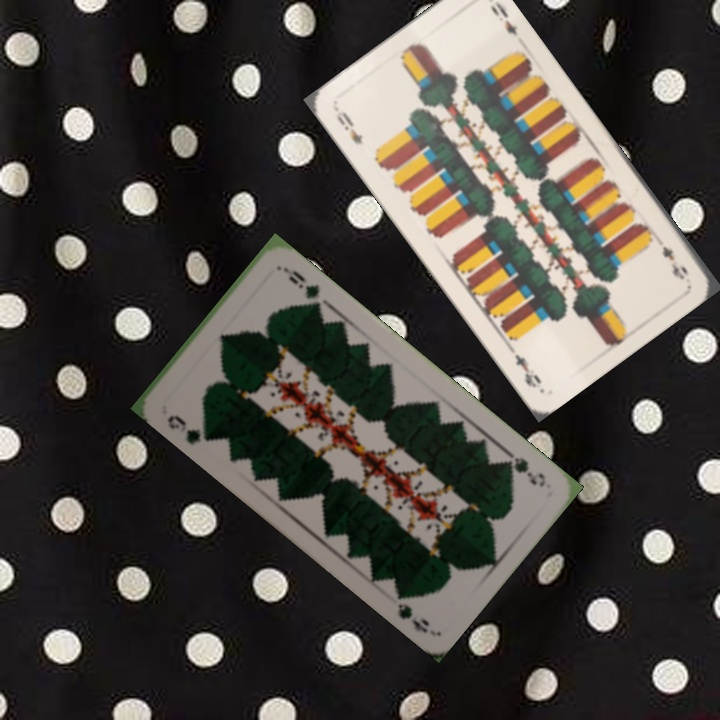E9: (332, 107, 366, 147), (658, 242, 691, 283)
G9: (500, 446, 549, 490), (163, 410, 213, 447)
